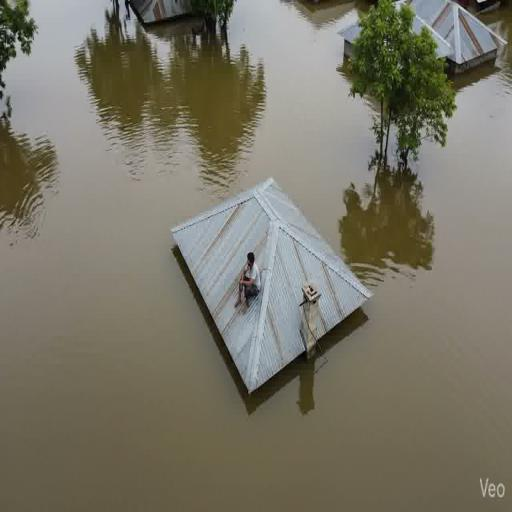human: (231, 246, 266, 313)
